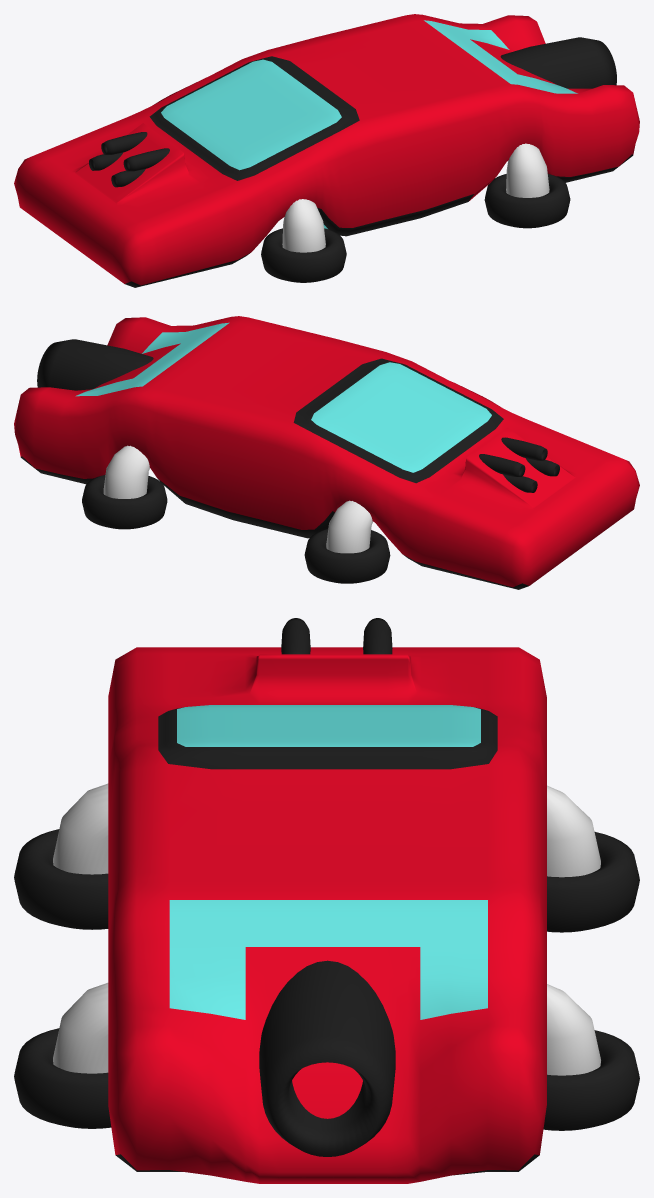
Rendered from SportsCar.fbx.
3 renders of one model, top to bottom at view 1: azimuth 30°, elevation 25°; view 2: azimuth 150°, elevation 25°; view 3: azimuth 270°, elevation 25°, orthographic. The views are drawn at different scales.
Visible parts, largest first — view 1: polySurface27, polySurface30, polySurface31, polySurface33, polySurface34, polySurface32, polySurface39, polySurface40; view 2: polySurface27, polySurface30, polySurface37, polySurface35, polySurface36, polySurface38, polySurface39, polySurface40; view 3: polySurface27, polySurface30, polySurface33, polySurface31, polySurface35, polySurface37, polySurface32, polySurface34, polySurface36, polySurface38, polySurface39, polySurface40.
Part boxes in pixels (bbox=[...]): polySurface27: bbox=[14, 14, 639, 287]; polySurface30: bbox=[500, 37, 616, 88]; polySurface31: bbox=[261, 228, 346, 282]; polySurface33: bbox=[484, 174, 570, 228]; polySurface34: bbox=[506, 143, 549, 197]; polySurface32: bbox=[282, 199, 325, 252]; polySurface39: bbox=[123, 148, 169, 171]; polySurface40: bbox=[101, 132, 147, 154]; polySurface27: bbox=[14, 316, 639, 589]; polySurface30: bbox=[37, 339, 153, 390]; polySurface37: bbox=[304, 529, 390, 583]; polySurface35: bbox=[82, 474, 167, 529]; polySurface36: bbox=[103, 445, 149, 498]; polySurface38: bbox=[326, 500, 372, 553]; polySurface39: bbox=[501, 437, 547, 460]; polySurface40: bbox=[479, 454, 525, 476]; polySurface27: bbox=[108, 647, 546, 1183]; polySurface30: bbox=[259, 960, 395, 1156]; polySurface33: bbox=[14, 1028, 111, 1128]; polySurface31: bbox=[14, 829, 108, 929]; polySurface35: bbox=[543, 1030, 639, 1130]; polySurface37: bbox=[547, 832, 639, 932]; polySurface32: bbox=[53, 783, 108, 874]; polySurface34: bbox=[53, 982, 108, 1073]; polySurface36: bbox=[547, 984, 600, 1075]; polySurface38: bbox=[547, 785, 600, 877]; polySurface39: bbox=[281, 618, 310, 654]; polySurface40: bbox=[363, 618, 392, 654].
Bounding box in the file's own units: 5.76 × 1.23 × 3.21.
